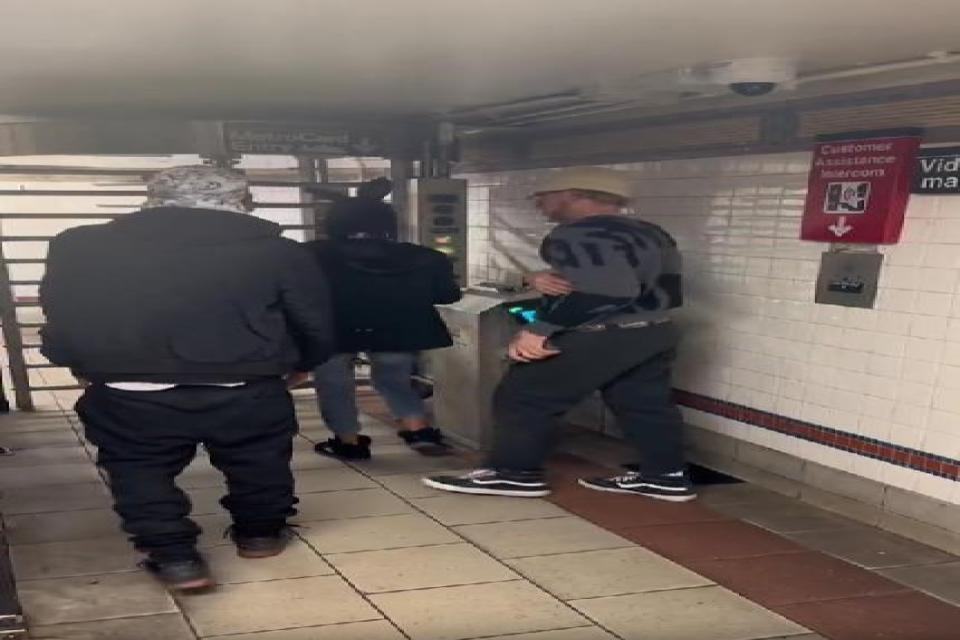non-violence: (34, 161, 340, 598), (413, 167, 717, 507), (281, 178, 460, 464)
